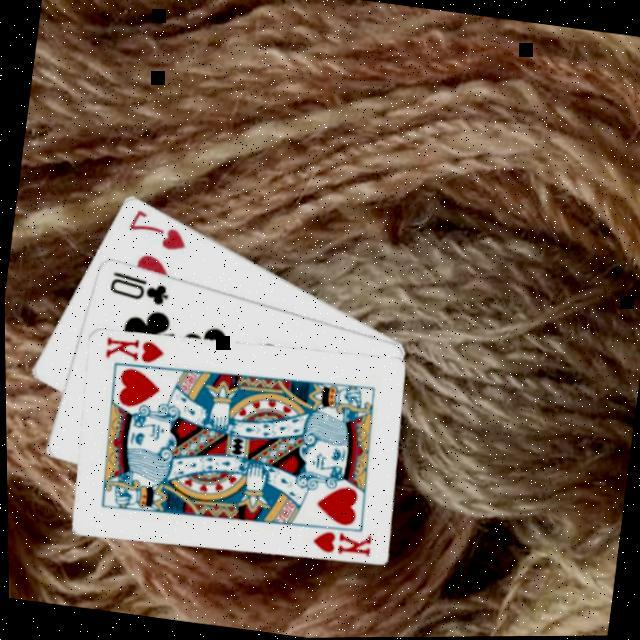10C: (102, 268, 172, 311)
7H: (120, 205, 191, 257)
KH: (304, 525, 372, 562), (98, 333, 165, 370)
